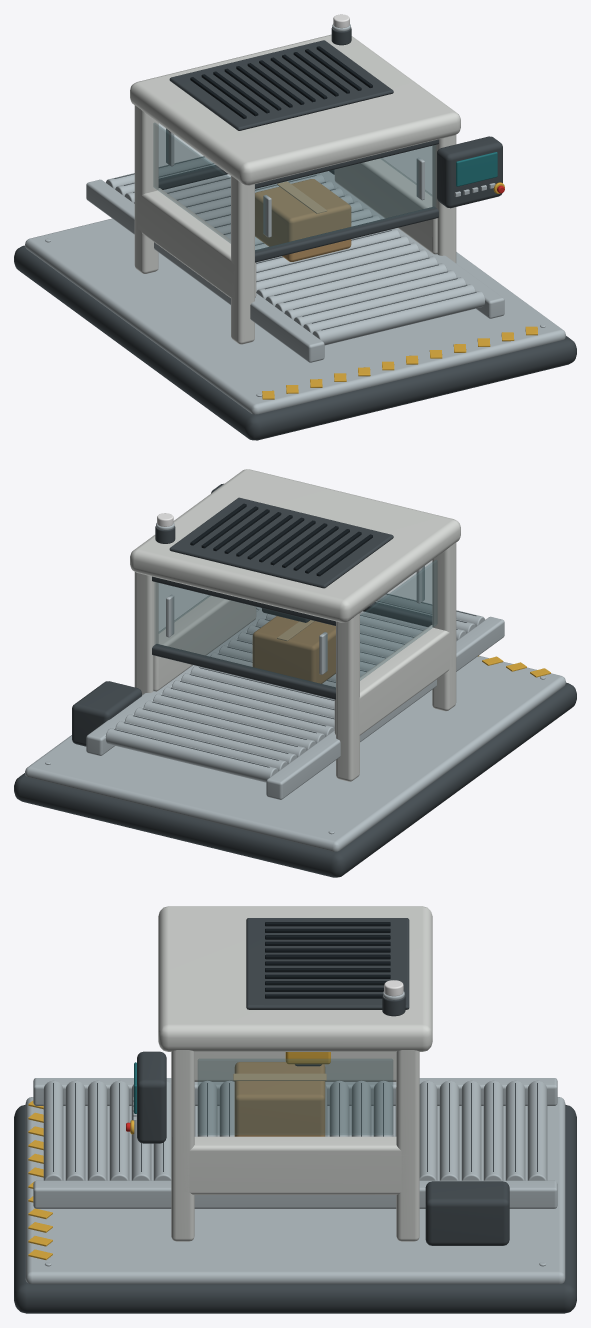
The model's file is packaging.glb.
The picture shows the model from 3 angles, top to bottom: view 1: azimuth 30°, elevation 25°; view 2: azimuth 150°, elevation 25°; view 3: azimuth 270°, elevation 25°; orthographic projection. The views are drawn at different scales.
Parts seen in each view (by area): view 1: Reinforced equipment bed, Packer roof housing, Cast steel work-cell plinth, Smoked packer access window, Roof service panel, Lower drive enclosure, Side safety window, Representative carton, Lower drive enclosure.001, Conveyor side channel, Packer structural column, Packer structural column.001 (+23 smaller); view 2: Reinforced equipment bed, Packer roof housing, Cast steel work-cell plinth, Smoked packer access window.001, Roof service panel, Lower drive enclosure, Side safety window, Lower drive enclosure.001, Conveyor side channel, Representative carton, Packer structural column.001, Packer structural column (+20 smaller); view 3: Reinforced equipment bed, Packer roof housing, Cast steel work-cell plinth, Side safety window.001, Lower drive enclosure.001, Roof service panel, Conveyor side channel.001, Representative carton, Conveyor drive motor, Packer structural column.003, Packer structural column.002, Lower drive enclosure (+33 smaller).
Boxes of the visible parts, x1=… form: Reinforced equipment bed: x1=25, y1=218, x2=565, y2=414; Packer roof housing: x1=130, y1=34, x2=460, y2=185; Cast steel work-cell plinth: x1=14, y1=245, x2=576, y2=440; Smoked packer access window: x1=255, y1=145, x2=435, y2=251; Roof service panel: x1=169, y1=40, x2=393, y2=130; Lower drive enclosure: x1=138, y1=188, x2=256, y2=299; Side safety window: x1=153, y1=123, x2=230, y2=243; Representative carton: x1=255, y1=179, x2=351, y2=261; Lower drive enclosure.001: x1=334, y1=158, x2=437, y2=254; Conveyor side channel: x1=86, y1=179, x2=324, y2=362; Packer structural column: x1=231, y1=176, x2=254, y2=344; Packer structural column.001: x1=134, y1=105, x2=158, y2=273; Reinforced equipment bed: x1=25, y1=607, x2=565, y2=851; Packer roof housing: x1=130, y1=469, x2=460, y2=622; Cast steel work-cell plinth: x1=14, y1=682, x2=576, y2=877; Smoked packer access window.001: x1=155, y1=582, x2=335, y2=688; Roof service panel: x1=169, y1=497, x2=393, y2=588; Lower drive enclosure: x1=334, y1=625, x2=452, y2=735; Side safety window: x1=360, y1=560, x2=437, y2=680; Lower drive enclosure.001: x1=153, y1=595, x2=256, y2=691; Conveyor side channel: x1=266, y1=616, x2=504, y2=799; Representative carton: x1=252, y1=616, x2=335, y2=683; Packer structural column.001: x1=336, y1=613, x2=359, y2=781; Packer structural column: x1=432, y1=542, x2=456, y2=711; Reinforced equipment bed: x1=25, y1=1097, x2=565, y2=1284; Packer roof housing: x1=158, y1=906, x2=432, y2=1051; Cast steel work-cell plinth: x1=14, y1=1104, x2=576, y2=1313; Side safety window.001: x1=198, y1=1059, x2=392, y2=1134; Lower drive enclosure.001: x1=182, y1=1136, x2=408, y2=1194; Roof service panel: x1=246, y1=918, x2=409, y2=1009; Conveyor side channel.001: x1=33, y1=1180, x2=557, y2=1208; Representative carton: x1=234, y1=1062, x2=325, y2=1136; Conveyor drive motor: x1=425, y1=1181, x2=509, y2=1245; Packer structural column.003: x1=396, y1=1050, x2=419, y2=1241; Packer structural column.002: x1=171, y1=1050, x2=194, y2=1241; Lower drive enclosure: x1=194, y1=1052, x2=396, y2=1081.
Size of what is drawn, in the model's own units: 3.45 by 2.48 by 4.35.
